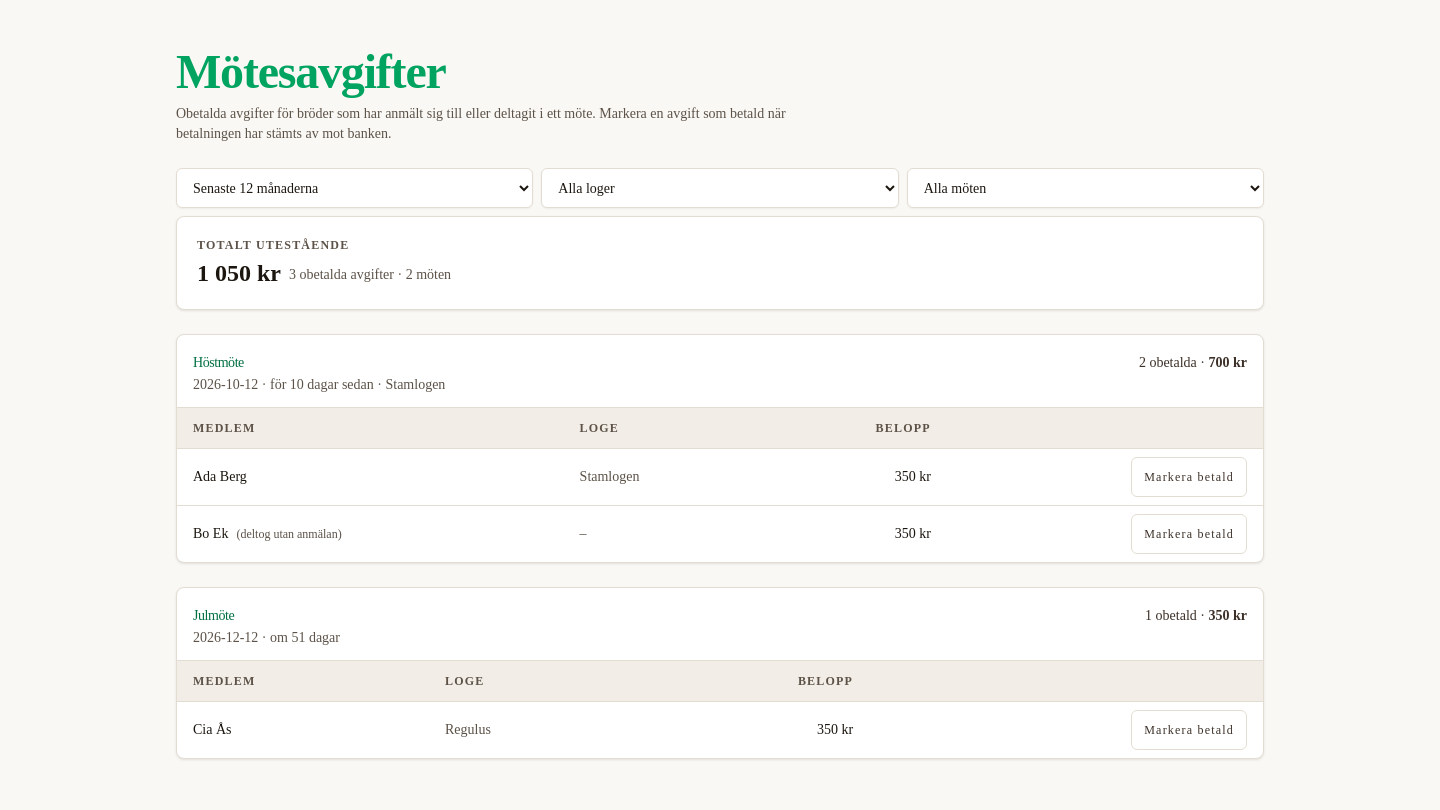
EventPaymentsPage › marks a payment paid after confirmation, with a toast, and moves focus
Expected: the element "Höstmöte" is shown, [176, 334, 1264, 563]
Click the button with aria-label "Markera betald – Ada Berg".
click(1189, 477)  # box [1131, 457, 1247, 497]
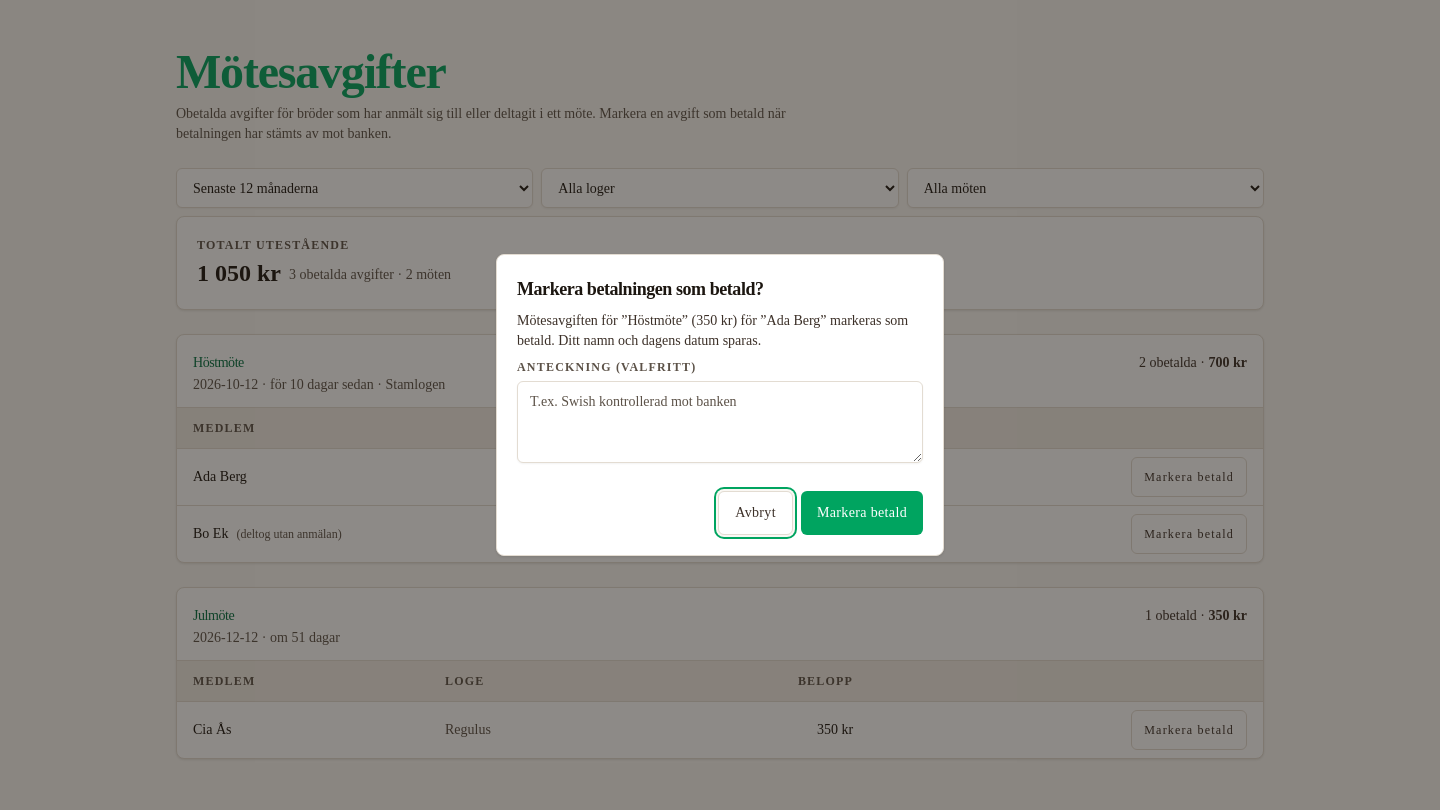
Expected: the dialog "Markera betalningen som betald?" shows "Mötesavgiften för ”Höstmöte” (350 kr) för ”Ada Berg”", [517, 313, 908, 348]
Type "Swish 21/10" into the text box labelled "Anteckning (valfritt)".
click(720, 422); type("Swish 21/10")  # box [517, 381, 923, 463]
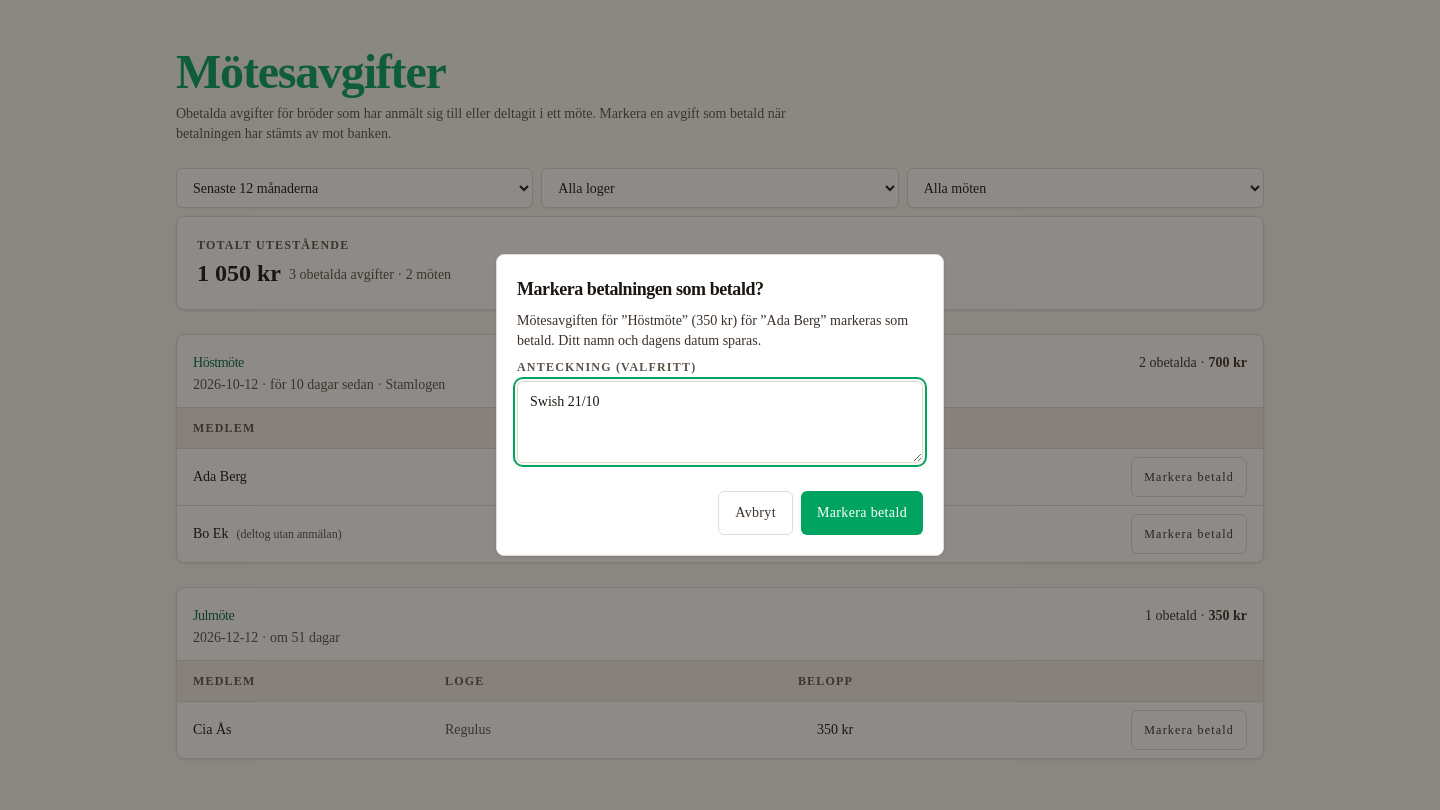
Click the button "Markera betald".
click(862, 513)  # box [801, 491, 923, 535]
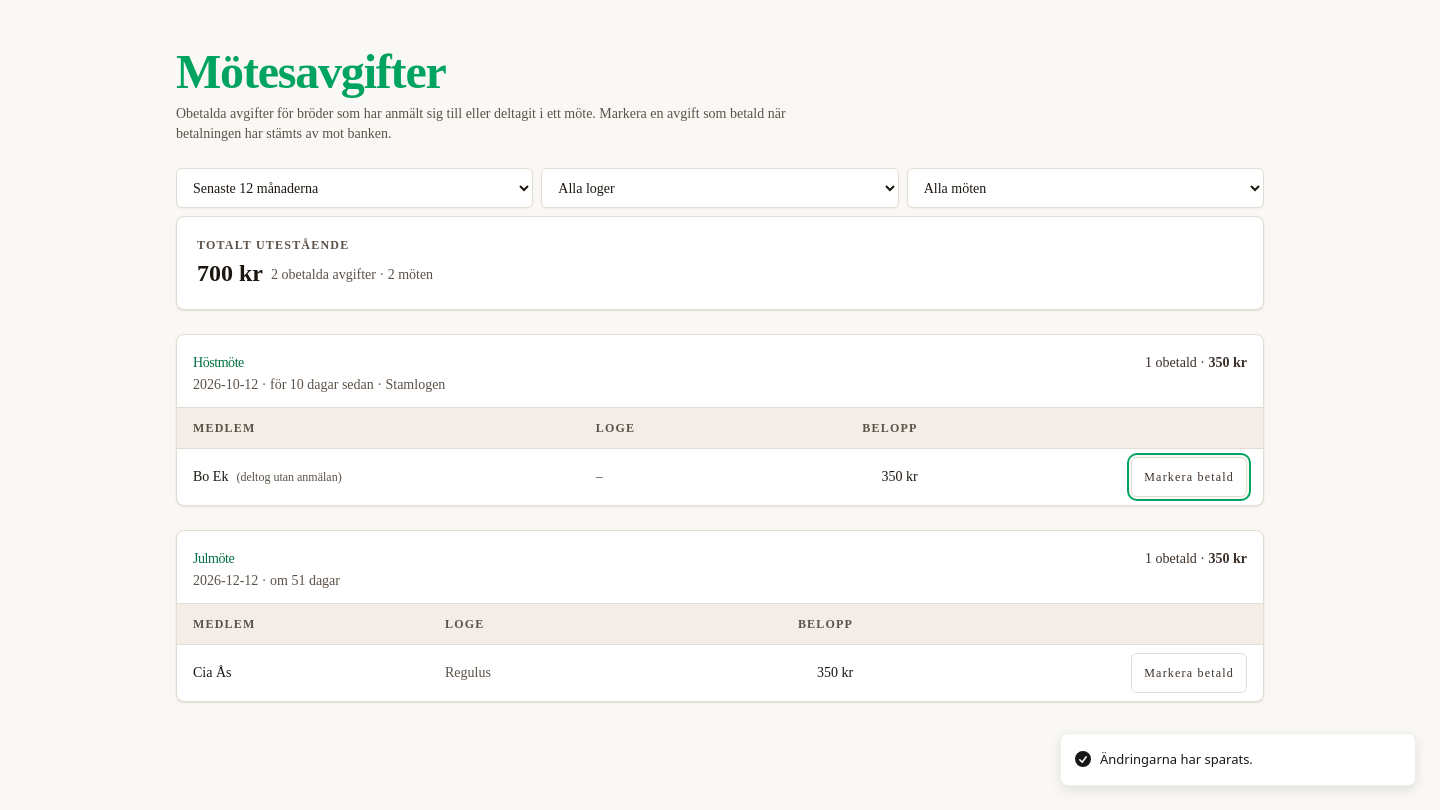
Expected: the text "Ändringarna har sparats." is shown, [1100, 750, 1253, 769]
Expected: the dialog is gone
Expected: the text "Ada Berg" is gone
